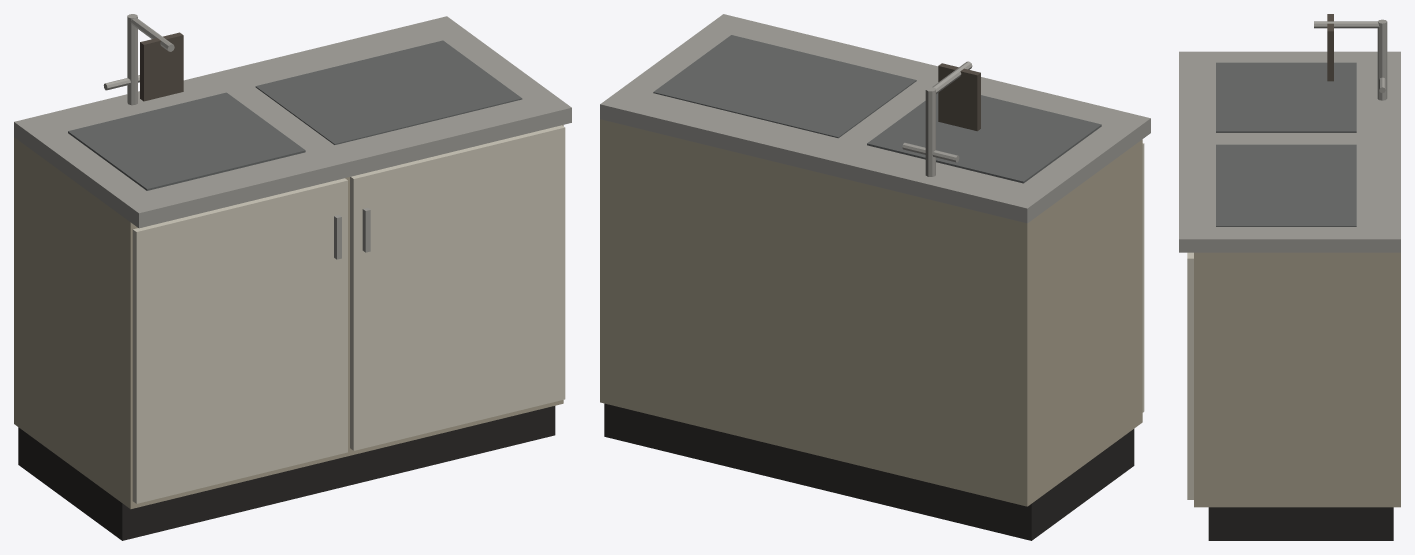
The model's file is kitchen-sink-unit.glb.
3 renders of one model, left to right at view 1: azimuth 30°, elevation 25°; view 2: azimuth 150°, elevation 25°; view 3: azimuth 270°, elevation 25°, orthographic. The views are drawn at different scales.
Parts seen in each view (by area): view 1: enamel, plastic-light, brushed, metal, plastic-dark, fabric; view 2: plastic-light, brushed, metal, plastic-dark, fabric, enamel; view 3: plastic-light, brushed, metal, plastic-dark, enamel, fabric.
Part boxes in pixels (left/top/right/bottom): enamel: left=132, top=125, right=565, bottom=503; plastic-light: left=14, top=125, right=563, bottom=509; brushed: left=14, top=14, right=571, bottom=259; metal: left=68, top=40, right=522, bottom=190; plastic-dark: left=18, top=406, right=555, bottom=540; fabric: left=140, top=32, right=183, bottom=101; plastic-light: left=600, top=119, right=1142, bottom=506; brushed: left=600, top=14, right=1150, bottom=223; metal: left=653, top=35, right=1101, bottom=183; plastic-dark: left=604, top=403, right=1134, bottom=540; fabric: left=938, top=63, right=980, bottom=131; enamel: left=1142, top=143, right=1144, bottom=412; plastic-light: left=1194, top=252, right=1400, bottom=507; brushed: left=1179, top=19, right=1400, bottom=252; metal: left=1216, top=62, right=1356, bottom=226; plastic-dark: left=1208, top=507, right=1393, bottom=540; enamel: left=1187, top=252, right=1193, bottom=499; fabric: left=1327, top=14, right=1333, bottom=81.
Bounding box in the file's own units: 1.2 × 1.13 × 0.6.
